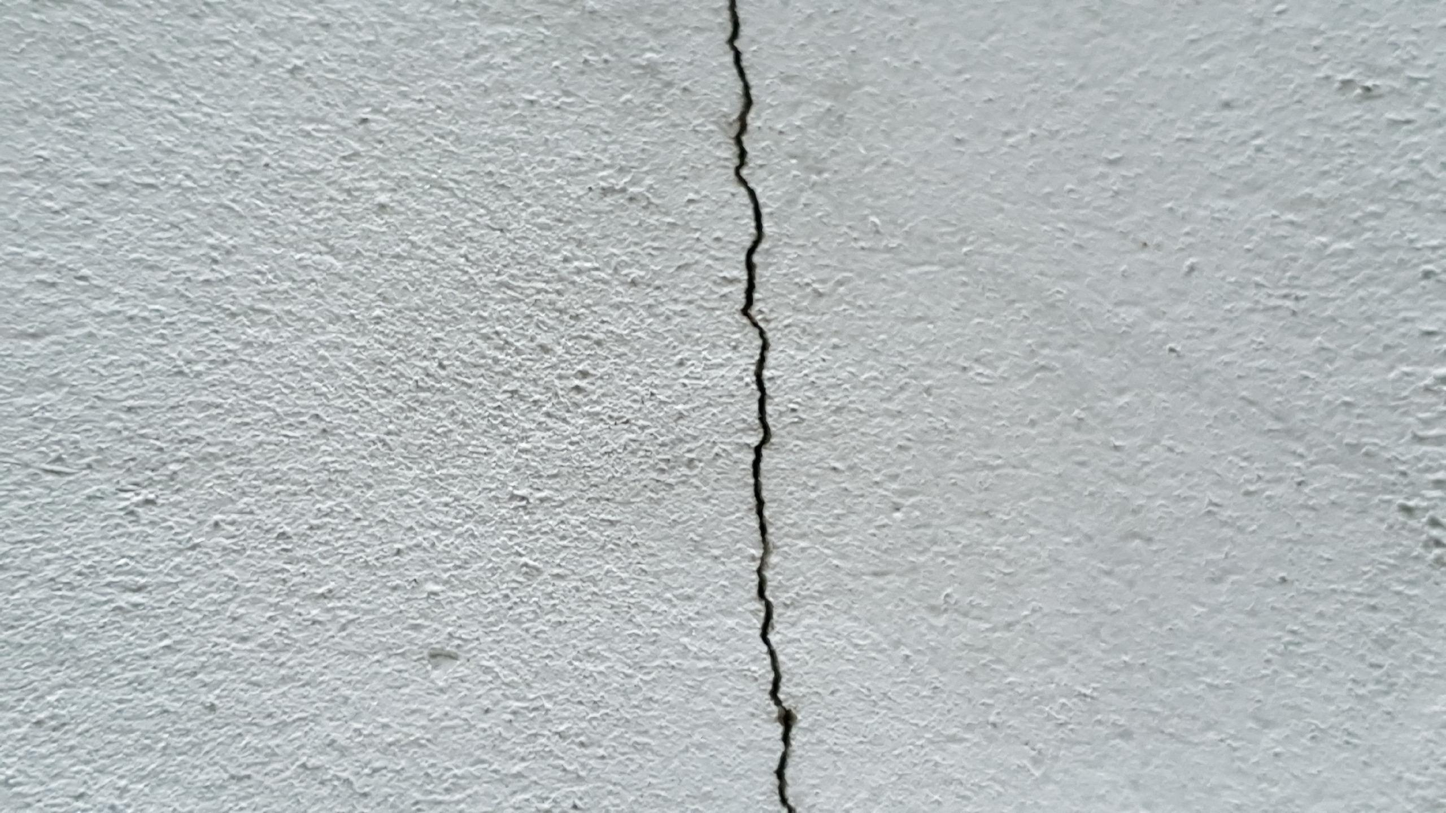crack: (722, 0, 801, 812)
